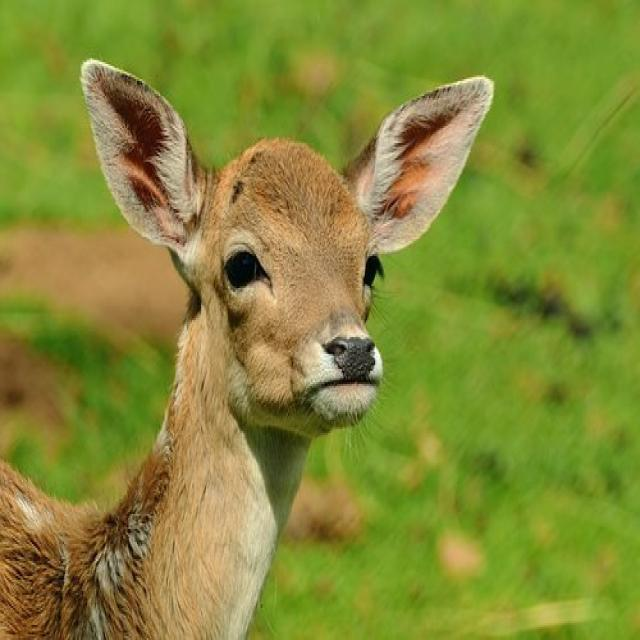not_pig: (0, 55, 494, 638)
